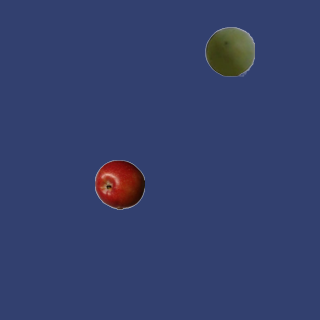Apple Braeburn: (94, 159, 144, 209)
Grape White 4: (204, 26, 254, 76)
